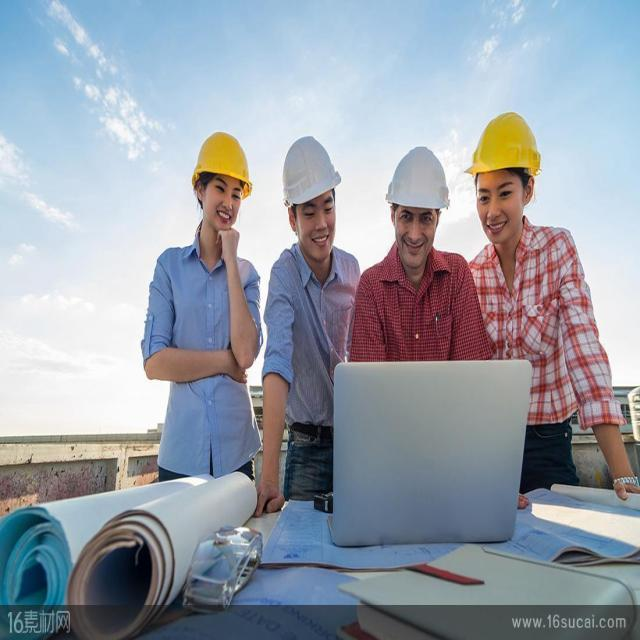face_nomask: (474, 174, 526, 252), (299, 194, 343, 258), (395, 210, 440, 267), (206, 178, 240, 228)
hand_noglove: (250, 478, 292, 516), (223, 343, 252, 394), (219, 227, 245, 272)
head_helmet: (280, 139, 345, 201), (471, 111, 535, 173), (385, 143, 449, 205), (183, 131, 247, 192)
person: (462, 78, 628, 516), (154, 105, 256, 473), (361, 113, 490, 381), (269, 113, 356, 490)
